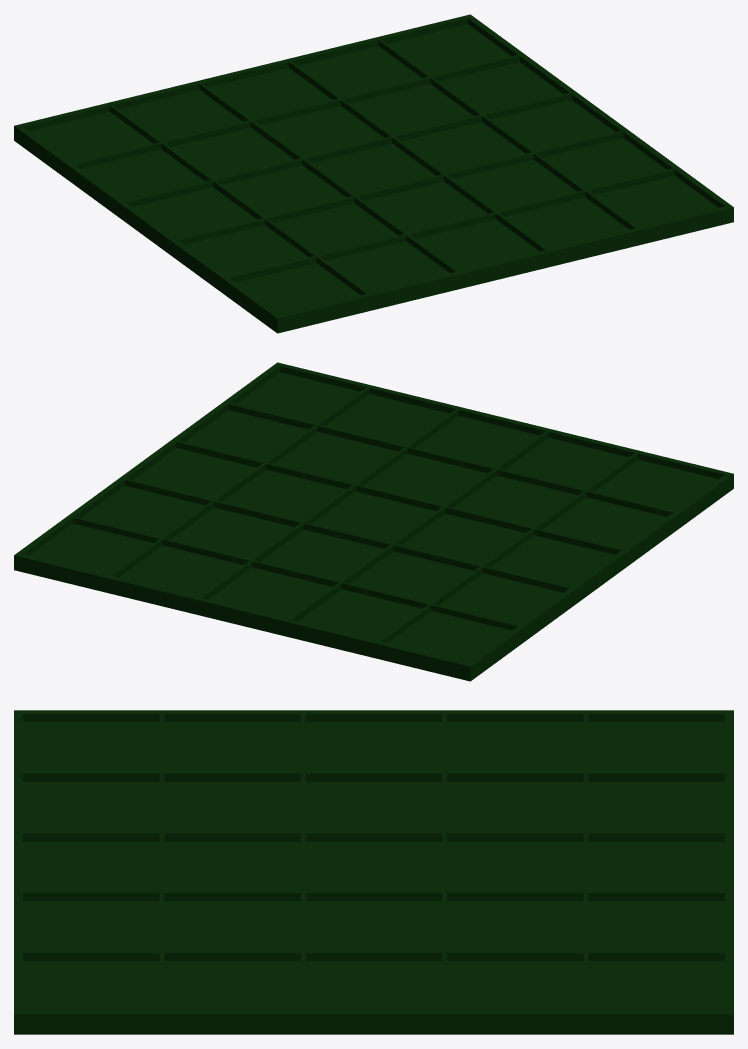
Rendered from field.obj.
3 views of the same model, one above another, from view 1: azimuth 30°, elevation 25°; view 2: azimuth 150°, elevation 25°; view 3: azimuth 270°, elevation 25° (orthographic). The views are drawn at different scales.
Parts seen in each view (by area): view 1: Board; view 2: Board; view 3: Board.
Boxes of the visible parts, bbox=[...] form: Board: bbox=[14, 14, 733, 333]; Board: bbox=[14, 362, 733, 681]; Board: bbox=[14, 710, 733, 1034].
Bounding box in the file's own units: 150 × 4.67 × 150.
